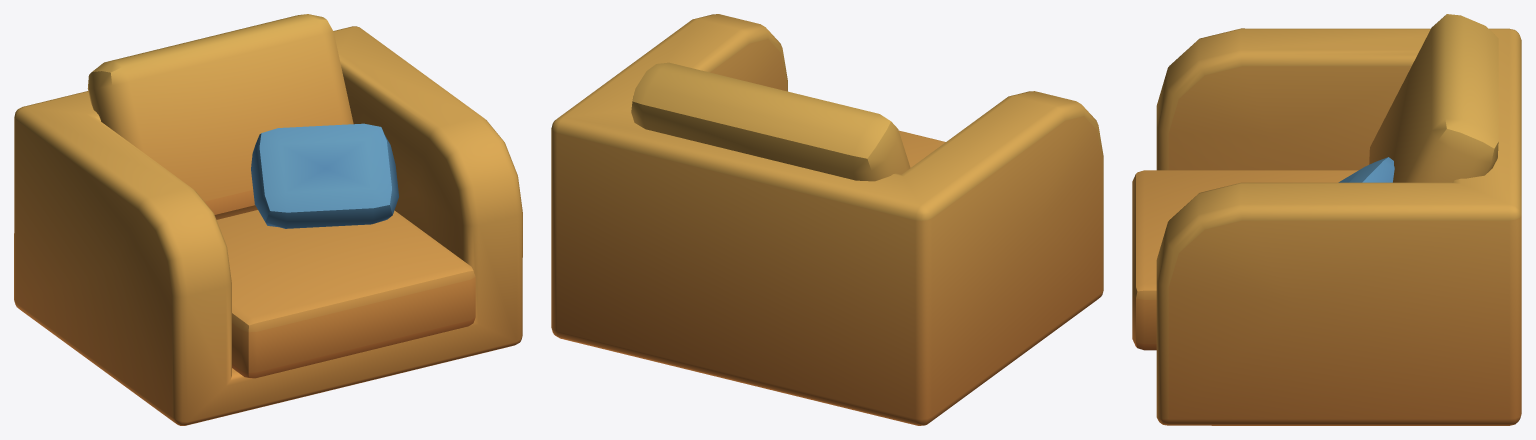
Rendered from armchair_pillows.glb.
The picture shows the model from 3 angles, left to right: view 1: azimuth 30°, elevation 25°; view 2: azimuth 150°, elevation 25°; view 3: azimuth 270°, elevation 25°; orthographic projection. The views are drawn at different scales.
Parts seen in each view (by area): view 1: armchair_pillows; view 2: armchair_pillows; view 3: armchair_pillows.
Part boxes in pixels (bbox=[...]): armchair_pillows: bbox=[14, 14, 522, 425]; armchair_pillows: bbox=[551, 14, 1103, 425]; armchair_pillows: bbox=[1132, 14, 1521, 425].
Bounding box in the file's own units: 1.8 × 1.22 × 1.6.
